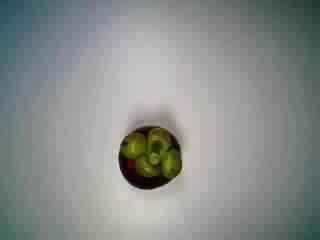mangosteen: (107, 117, 185, 193)
